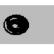correct: (2, 13, 31, 36)
